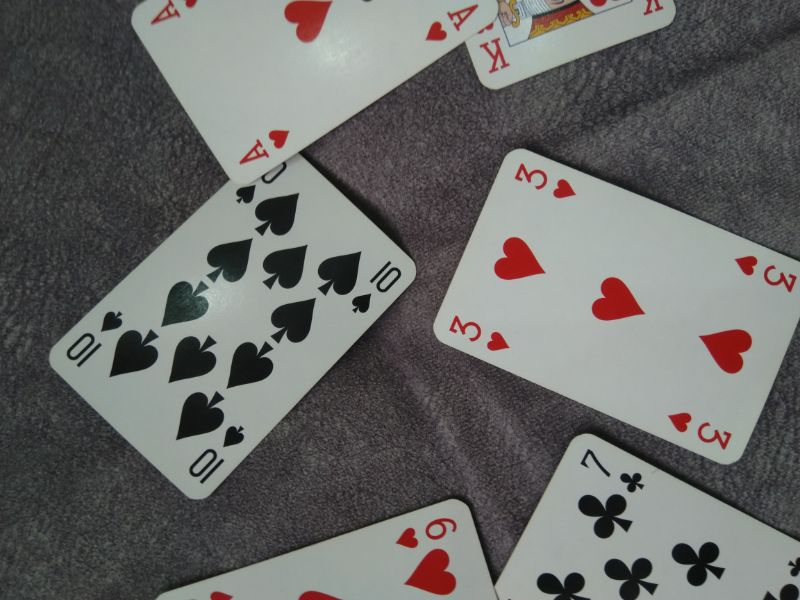3h: (443, 308, 514, 354), (663, 409, 736, 453), (733, 250, 797, 294), (511, 161, 578, 201)
6h: (391, 514, 461, 548)
7c: (575, 448, 649, 493)
Ah: (234, 125, 293, 168), (425, 2, 485, 43)
